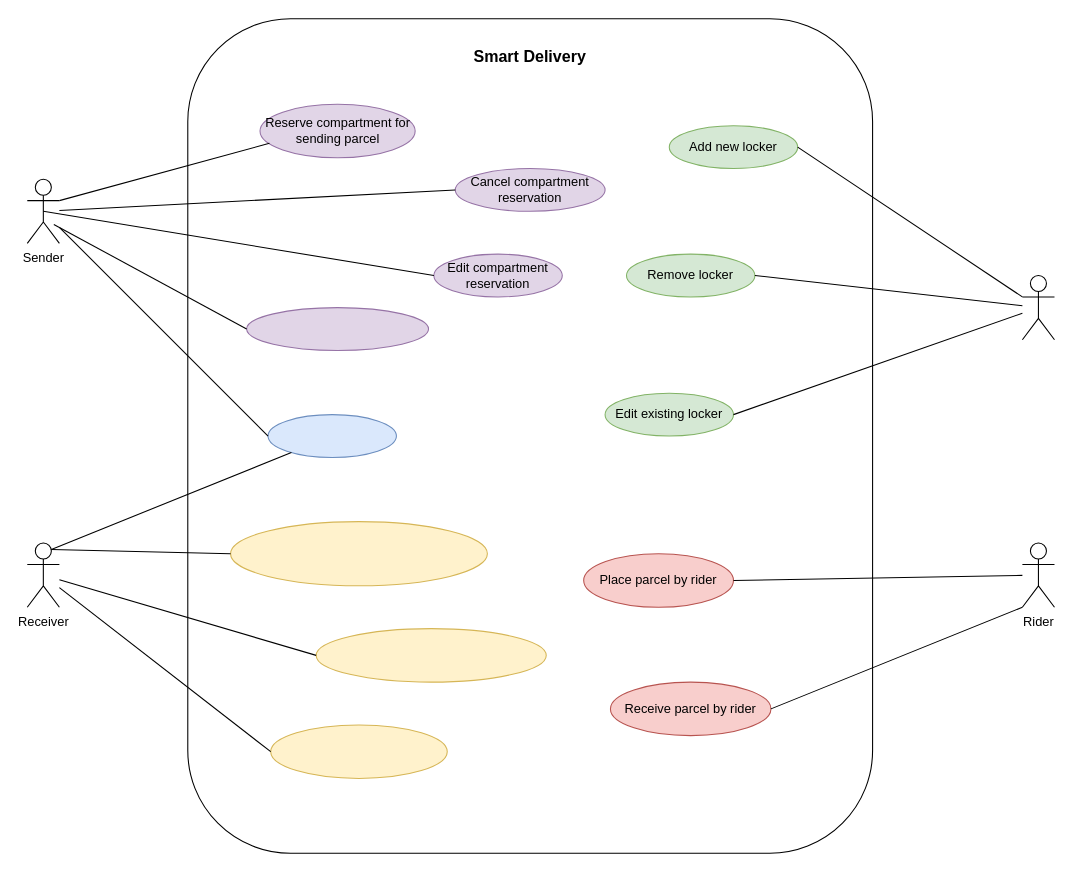
This 1075x872 diagram has some shape labels left out. Here are the shapes that lost their labels. From the top down, the centre of each, then its label:
At (1037,307): "Admin".
At (337,328): "Place parcel by sender".
At (331,435): "track parcel delivery".
At (358,553): "Select compartment for receiving parcel".
At (430,655): "Receive parcel by receiver".
At (358,751): "Reshedule delivery".
